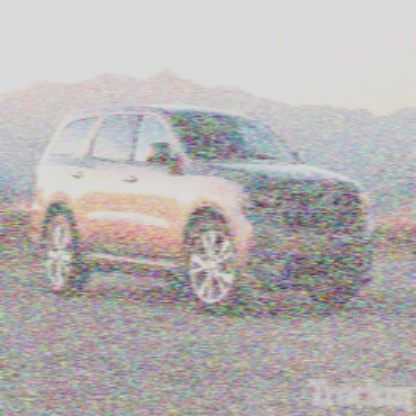Vehicle: (30, 104, 376, 319)
